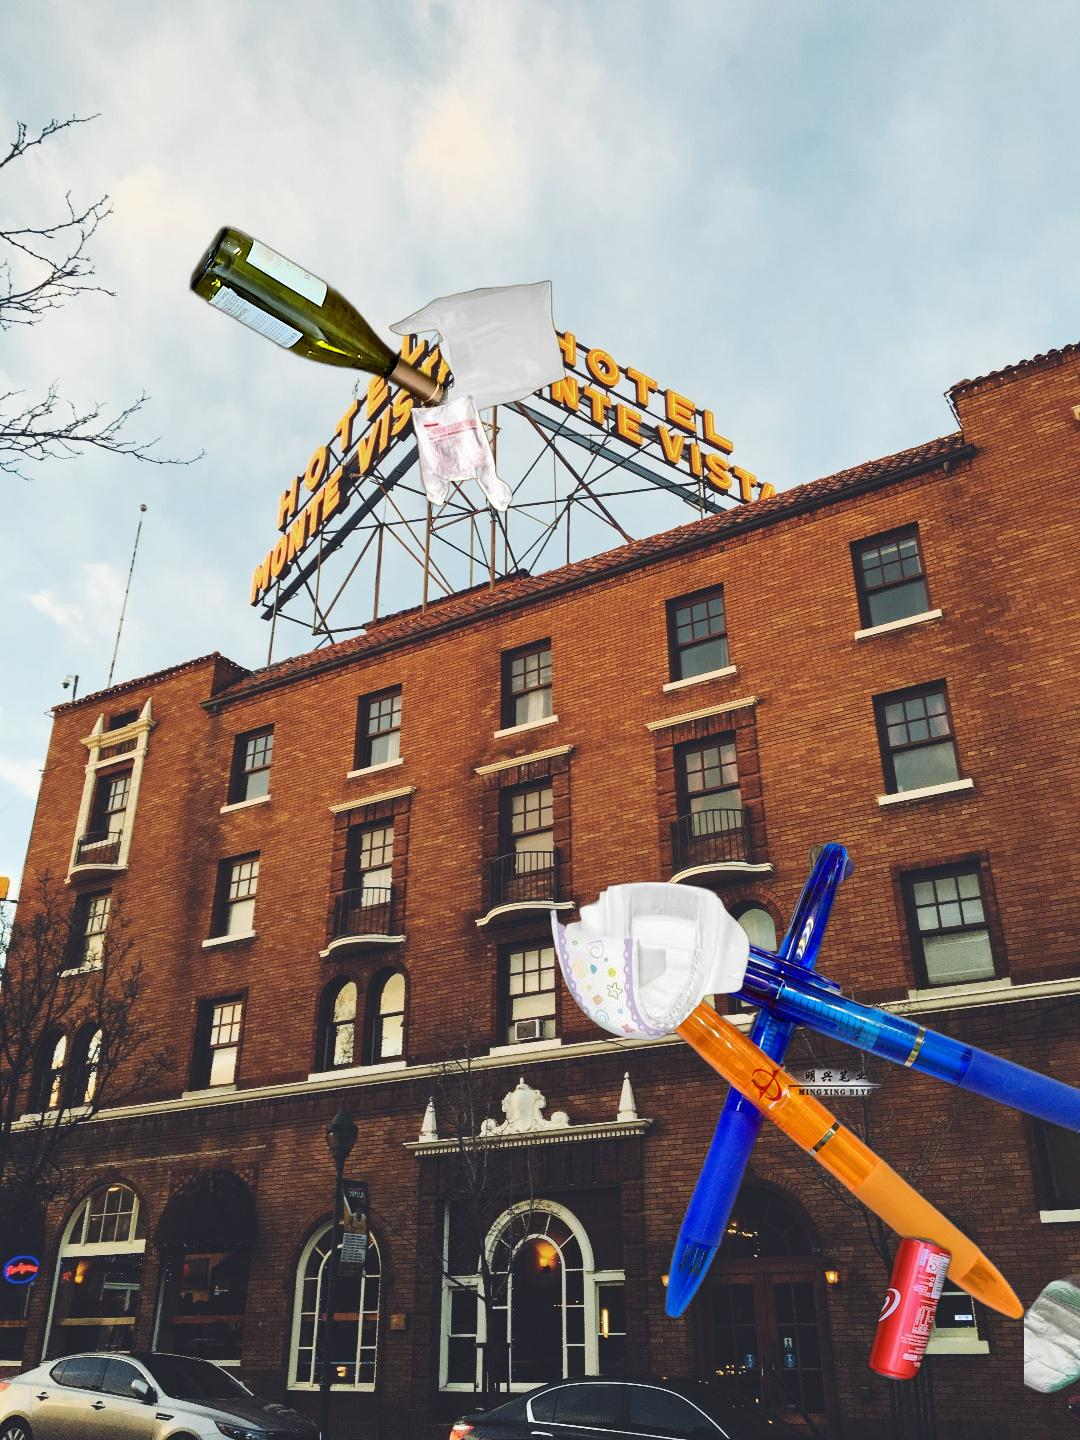glass: (185, 220, 448, 413)
metal-cans: (863, 1231, 955, 1386)
penholder: (605, 836, 1080, 1325)
plastic-bag: (386, 278, 568, 514)
trash: (547, 879, 768, 1043), (1024, 1227, 1080, 1411)
